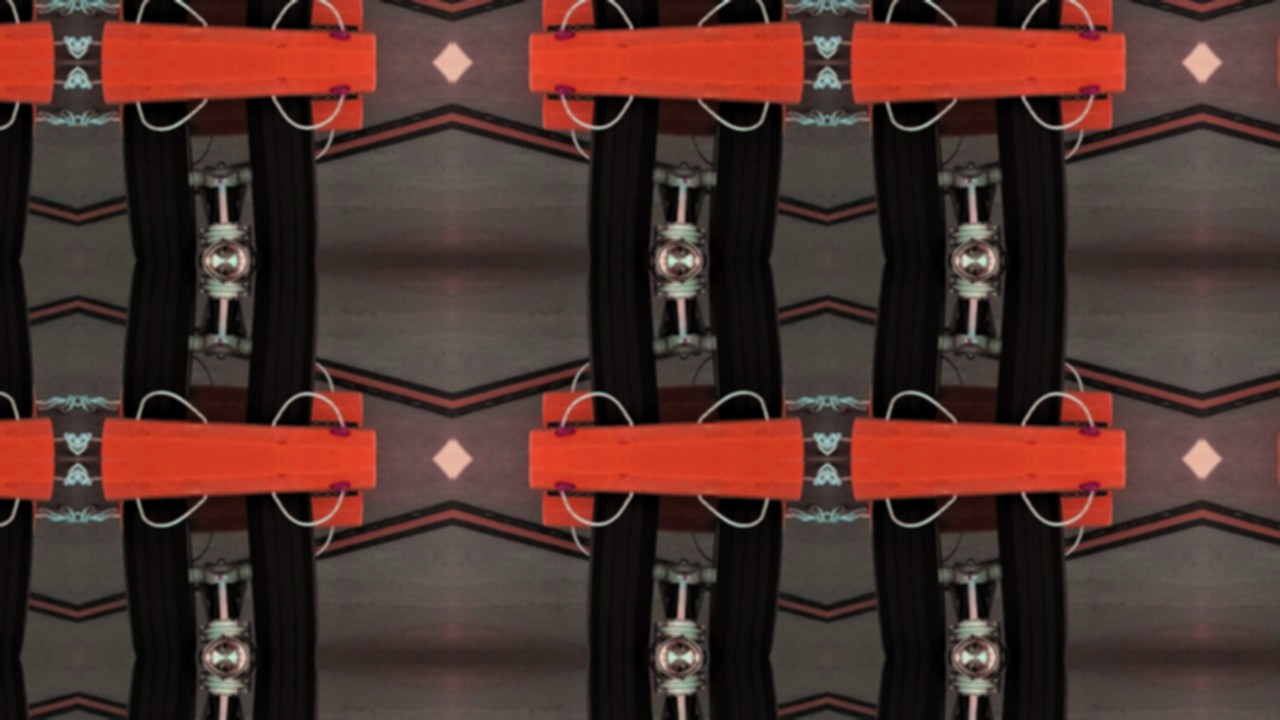chock: (98, 62, 380, 106), (525, 62, 807, 106), (848, 62, 1130, 106), (98, 459, 380, 503), (525, 459, 807, 503), (848, 459, 1130, 503), (98, 19, 380, 62), (525, 19, 807, 62), (848, 19, 1130, 62), (98, 416, 380, 459), (525, 416, 807, 459), (848, 416, 1130, 459), (113, 93, 365, 140), (540, 93, 792, 140), (863, 93, 1115, 140), (113, 382, 365, 429), (540, 382, 792, 429), (863, 382, 1115, 429), (113, 490, 365, 537), (540, 490, 792, 537), (863, 490, 1115, 537), (113, 0, 365, 32), (540, 0, 792, 32), (863, 0, 1115, 32), (0, 62, 57, 106), (0, 459, 57, 503), (0, 19, 57, 62), (0, 416, 57, 459), (0, 93, 42, 140), (0, 382, 42, 429), (0, 490, 42, 537), (0, 0, 42, 32)
wheel: (123, 101, 198, 261), (707, 101, 782, 261), (873, 101, 948, 261), (123, 261, 198, 421), (707, 261, 782, 421), (873, 261, 948, 421), (123, 498, 198, 658), (707, 498, 782, 658), (873, 498, 948, 658), (249, 94, 320, 261), (585, 94, 656, 261), (999, 94, 1070, 261), (249, 261, 320, 428), (585, 261, 656, 428), (999, 261, 1070, 428), (249, 491, 320, 658), (585, 491, 656, 658), (999, 491, 1070, 658), (0, 101, 32, 261), (0, 261, 32, 421), (0, 498, 32, 658), (123, 658, 198, 720), (707, 658, 782, 720), (873, 658, 948, 720), (249, 658, 320, 720), (585, 658, 656, 720), (999, 658, 1070, 720), (249, 0, 320, 31), (585, 0, 656, 31), (999, 0, 1070, 31), (0, 658, 32, 720), (123, 0, 198, 24), (707, 0, 782, 24), (873, 0, 948, 24), (0, 0, 32, 24)
